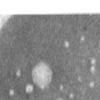white: (30, 58, 54, 92), (75, 31, 88, 45), (85, 64, 98, 76), (61, 37, 71, 52), (23, 83, 35, 95), (14, 68, 24, 81), (6, 86, 16, 98), (88, 55, 98, 67), (86, 80, 97, 90), (76, 74, 85, 85), (57, 83, 66, 92), (67, 92, 76, 100), (54, 97, 67, 100)
